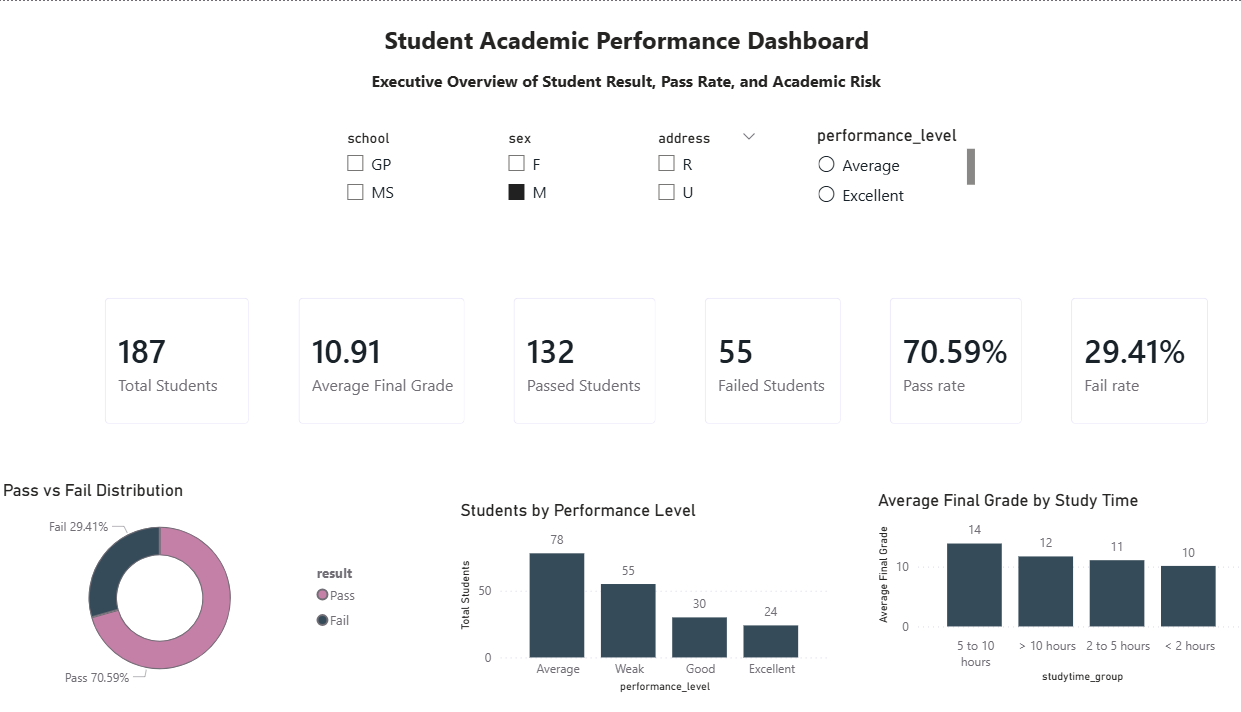

The page's visual inventory and layout, read from the dashboard file:
{"tool":"powerbi","page":{"name":"Executive Overview","canvas":[1280,720],"ordinal":0},"visuals":[{"type":"cardVisual","fields":{"Data":["vw_student_analysis.Total Students"]},"box":[90,280,178.8,160],"z":0,"group":"g1"},{"type":"cardVisual","fields":{"Data":["vw_student_analysis.Average Final Grade"]},"box":[283.8,280,200,160],"z":1000,"group":"g1"},{"type":"cardVisual","fields":{"Data":["vw_student_analysis.Passed Student"]},"box":[498.8,280,176.2,160],"z":2000,"group":"g1"},{"type":"cardVisual","fields":{"Data":["vw_student_analysis.Failed Student"]},"box":[690,280,170,160],"z":3000,"group":"g1"},{"type":"cardVisual","fields":{"Data":["vw_student_analysis.Pass rate"]},"box":[875,280,166.2,160],"z":4000,"group":"g1"},{"type":"cardVisual","fields":{"Data":["vw_student_analysis.Fail rate"]},"box":[1056.2,280,171.2,160],"z":5000,"group":"g1"},{"type":"textbox","box":[214.7,0,827.6,82],"z":6000},{"type":"textbox","box":[161.7,63.9,933.8,35],"z":7000},{"type":"donutChart","title":"Pass vs Fail Distribution","fields":{"Category":["vw_student_analysis.result"],"Y":["vw_student_analysis.Total Students"]},"box":[0,478.8,378.8,217.5],"z":8000},{"type":"columnChart","title":"Students by Performance Level","fields":{"Category":["vw_student_analysis.performance_level"],"Y":["vw_student_analysis.Total Students"]},"box":[457.5,498.8,378.8,197.5],"z":9000},{"type":"columnChart","title":"Average Final Grade by Study Time","fields":{"Category":["vw_student_analysis.studytime_group"],"Y":["vw_student_analysis.Average Final Grade"]},"box":[875,488.8,378.8,197.5],"z":10000},{"type":"slicer","fields":{"Values":["vw_student_analysis.school"]},"box":[336.2,123.8,115,95],"z":11000},{"type":"slicer","fields":{"Values":["vw_student_analysis.sex"]},"box":[497.5,123.8,115,95],"z":12000},{"type":"slicer","fields":{"Values":["vw_student_analysis.address"]},"box":[647.5,123.8,122.5,95],"z":13000},{"type":"listSlicer","fields":{"Values":["vw_student_analysis.performance_level"]},"box":[813.8,123.8,168.8,95],"z":14000},{"type":"group","id":"g1","title":"Groupe 1","box":[90,280,1137.5,160],"z":14001}]}

Visuals, with their boxes in screenshot pixels (x1, y1, x2, y2), scaled from the page's 1280x720 canvas onto the 1241x712 screenshot:
cardVisual - vw_student_analysis.Total Students: locate(87, 277, 261, 435)
cardVisual - vw_student_analysis.Average Final Grade: locate(275, 277, 469, 435)
cardVisual - vw_student_analysis.Passed Student: locate(484, 277, 654, 435)
cardVisual - vw_student_analysis.Failed Student: locate(669, 277, 834, 435)
cardVisual - vw_student_analysis.Pass rate: locate(848, 277, 1009, 435)
cardVisual - vw_student_analysis.Fail rate: locate(1024, 277, 1190, 435)
textbox: locate(208, 0, 1011, 81)
textbox: locate(157, 63, 1062, 98)
"Pass vs Fail Distribution" donutChart: locate(0, 473, 367, 689)
"Students by Performance Level" columnChart: locate(444, 493, 811, 689)
"Average Final Grade by Study Time" columnChart: locate(848, 483, 1216, 679)
slicer - vw_student_analysis.school: locate(326, 122, 437, 216)
slicer - vw_student_analysis.sex: locate(482, 122, 594, 216)
slicer - vw_student_analysis.address: locate(628, 122, 747, 216)
listSlicer - vw_student_analysis.performance_level: locate(789, 122, 953, 216)
"Groupe 1" group: locate(87, 277, 1190, 435)
